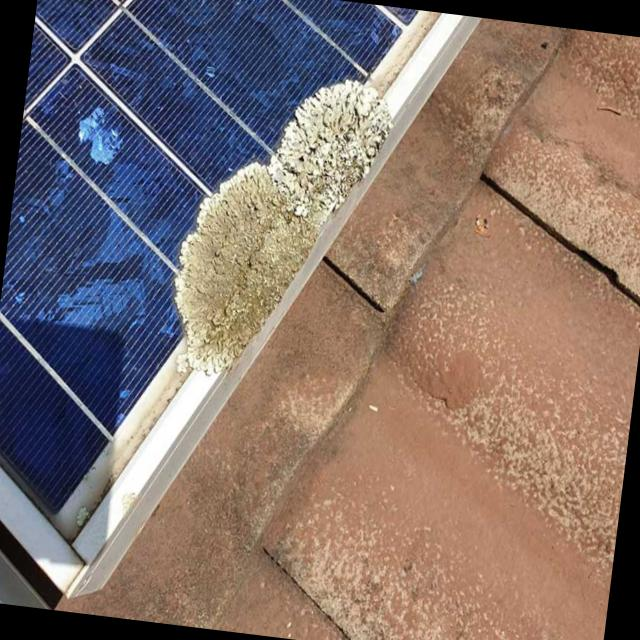faulty: (55, 0, 421, 418)
